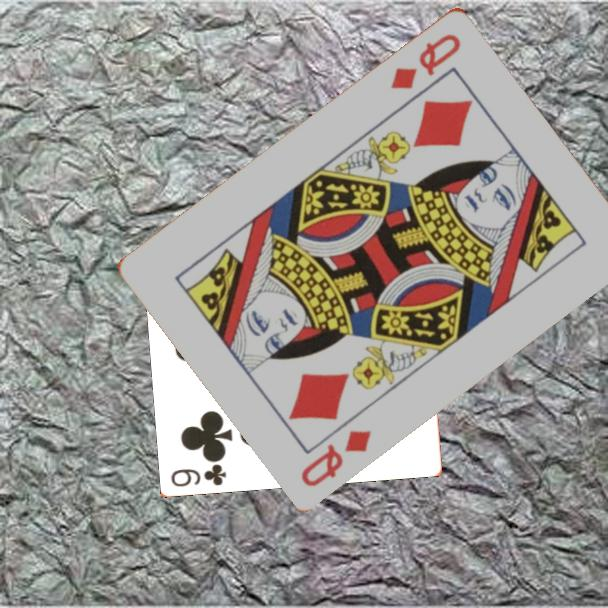c09: (168, 460, 230, 489)
d12: (297, 425, 375, 489), (386, 29, 465, 92)
